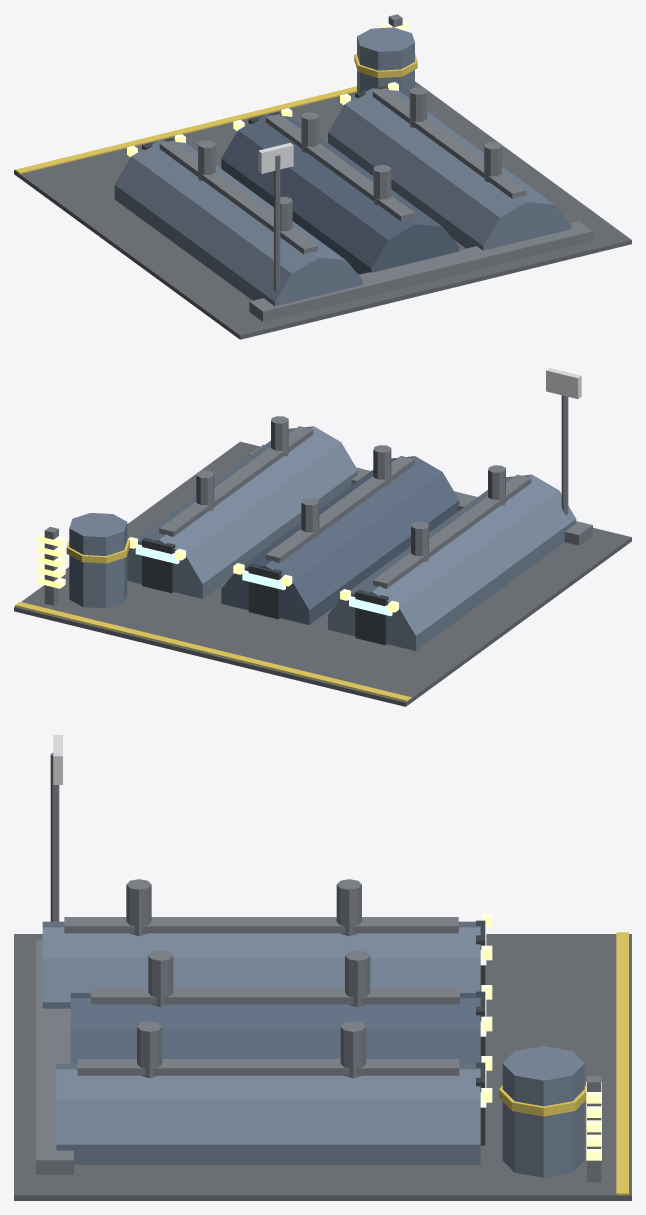
File: zone_low_6_t5.glb
The picture shows the model from 3 angles, top to bottom: view 1: azimuth 30°, elevation 25°; view 2: azimuth 150°, elevation 25°; view 3: azimuth 270°, elevation 25°; orthographic projection. The views are drawn at different scales.
Visible parts, largest first — view 1: zone_low_6_t5, detail; view 2: zone_low_6_t5, detail; view 3: zone_low_6_t5, detail.
Part boxes in pixels (x1,y1,x2,y2): zone_low_6_t5: (14, 27, 631, 339); detail: (15, 14, 501, 291); zone_low_6_t5: (14, 426, 631, 706); detail: (15, 368, 581, 701); zone_low_6_t5: (14, 917, 631, 1200); detail: (50, 735, 628, 1195).
Size of the model in its own units: 19.6 by 8 by 19.6.
